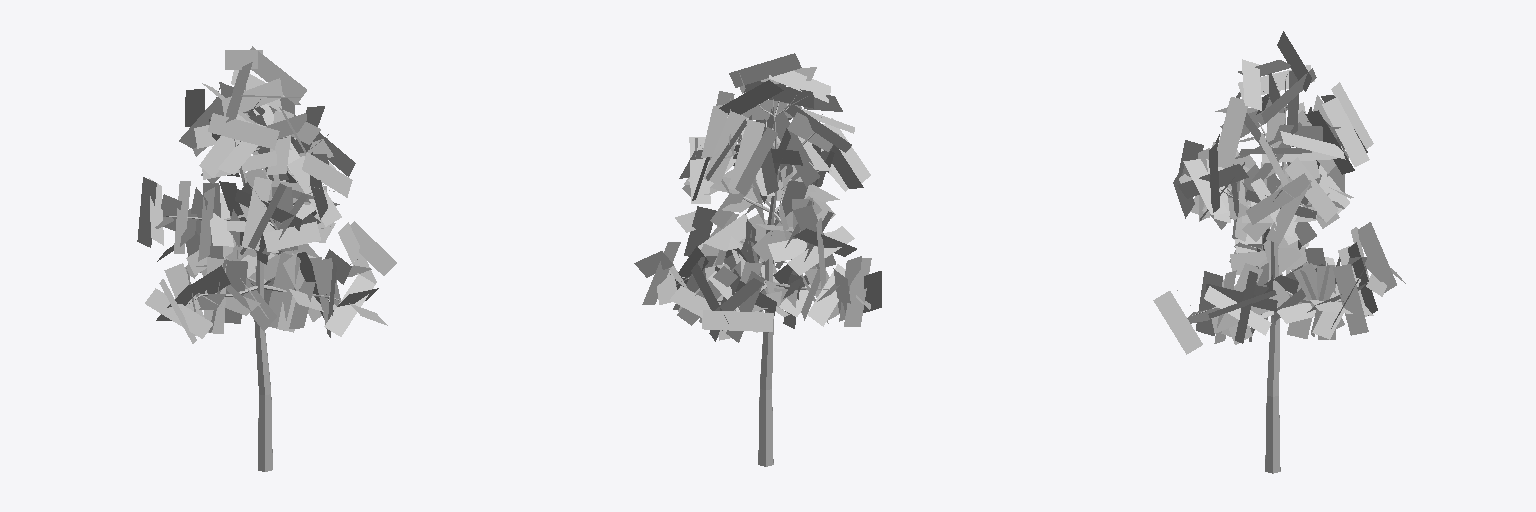
Rendered from TreeB.obj.
3 renders of one model, left to right at view 1: azimuth 30°, elevation 25°; view 2: azimuth 150°, elevation 25°; view 3: azimuth 270°, elevation 25°, orthographic.
Parts seen in each view (by area): view 1: leaves, tree; view 2: leaves, tree; view 3: leaves, tree.
Boxes of the visible parts, box(x1,y1,x2,y2) form: leaves: box(137, 46, 396, 343); tree: box(166, 87, 357, 471); leaves: box(634, 53, 881, 342); tree: box(670, 92, 835, 466); leaves: box(1153, 31, 1405, 354); tree: box(1192, 71, 1372, 473).
Bounding box in the file's own units: 10.42 × 19.67 × 10.7.